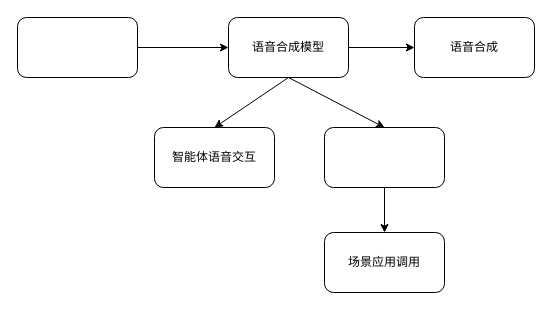
Some shapes in this 552 by 310 pixel diagram are drawn without their labels. Here are the shapes that lost their labels. From the top down, the box of each, then its label:
(16, 16, 138, 78): 语音输入
(324, 126, 444, 188): REST 接口
